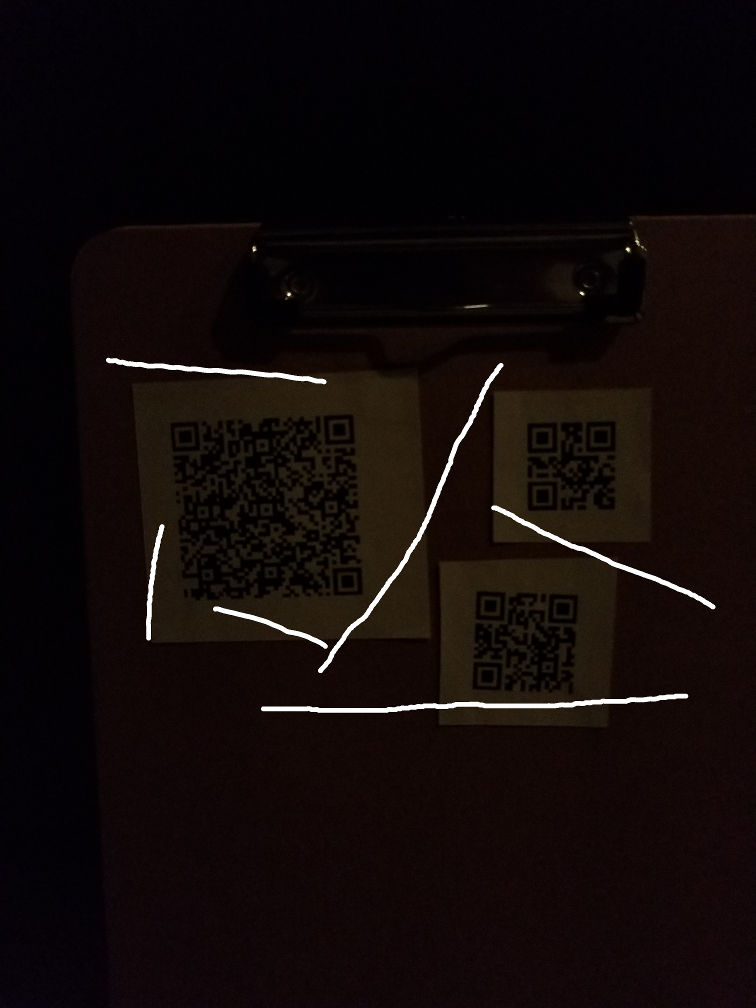QR_CODE: (153, 391, 370, 610), (458, 575, 594, 714), (511, 400, 625, 527)
